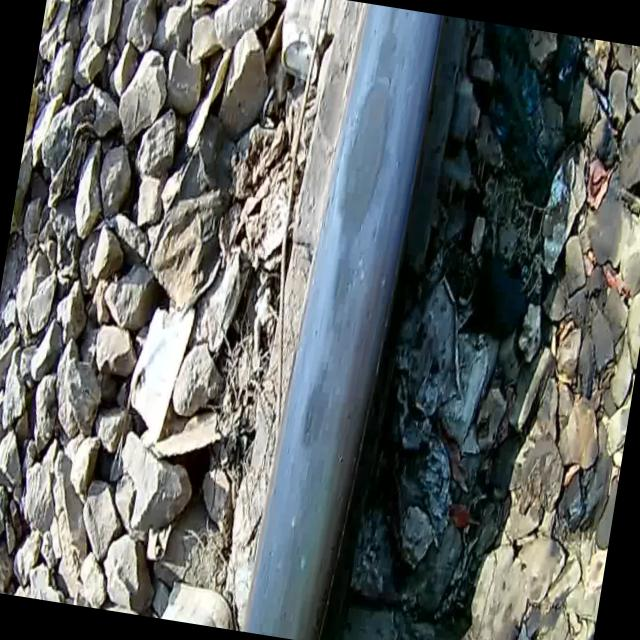Squats: (218, 0, 465, 640)
